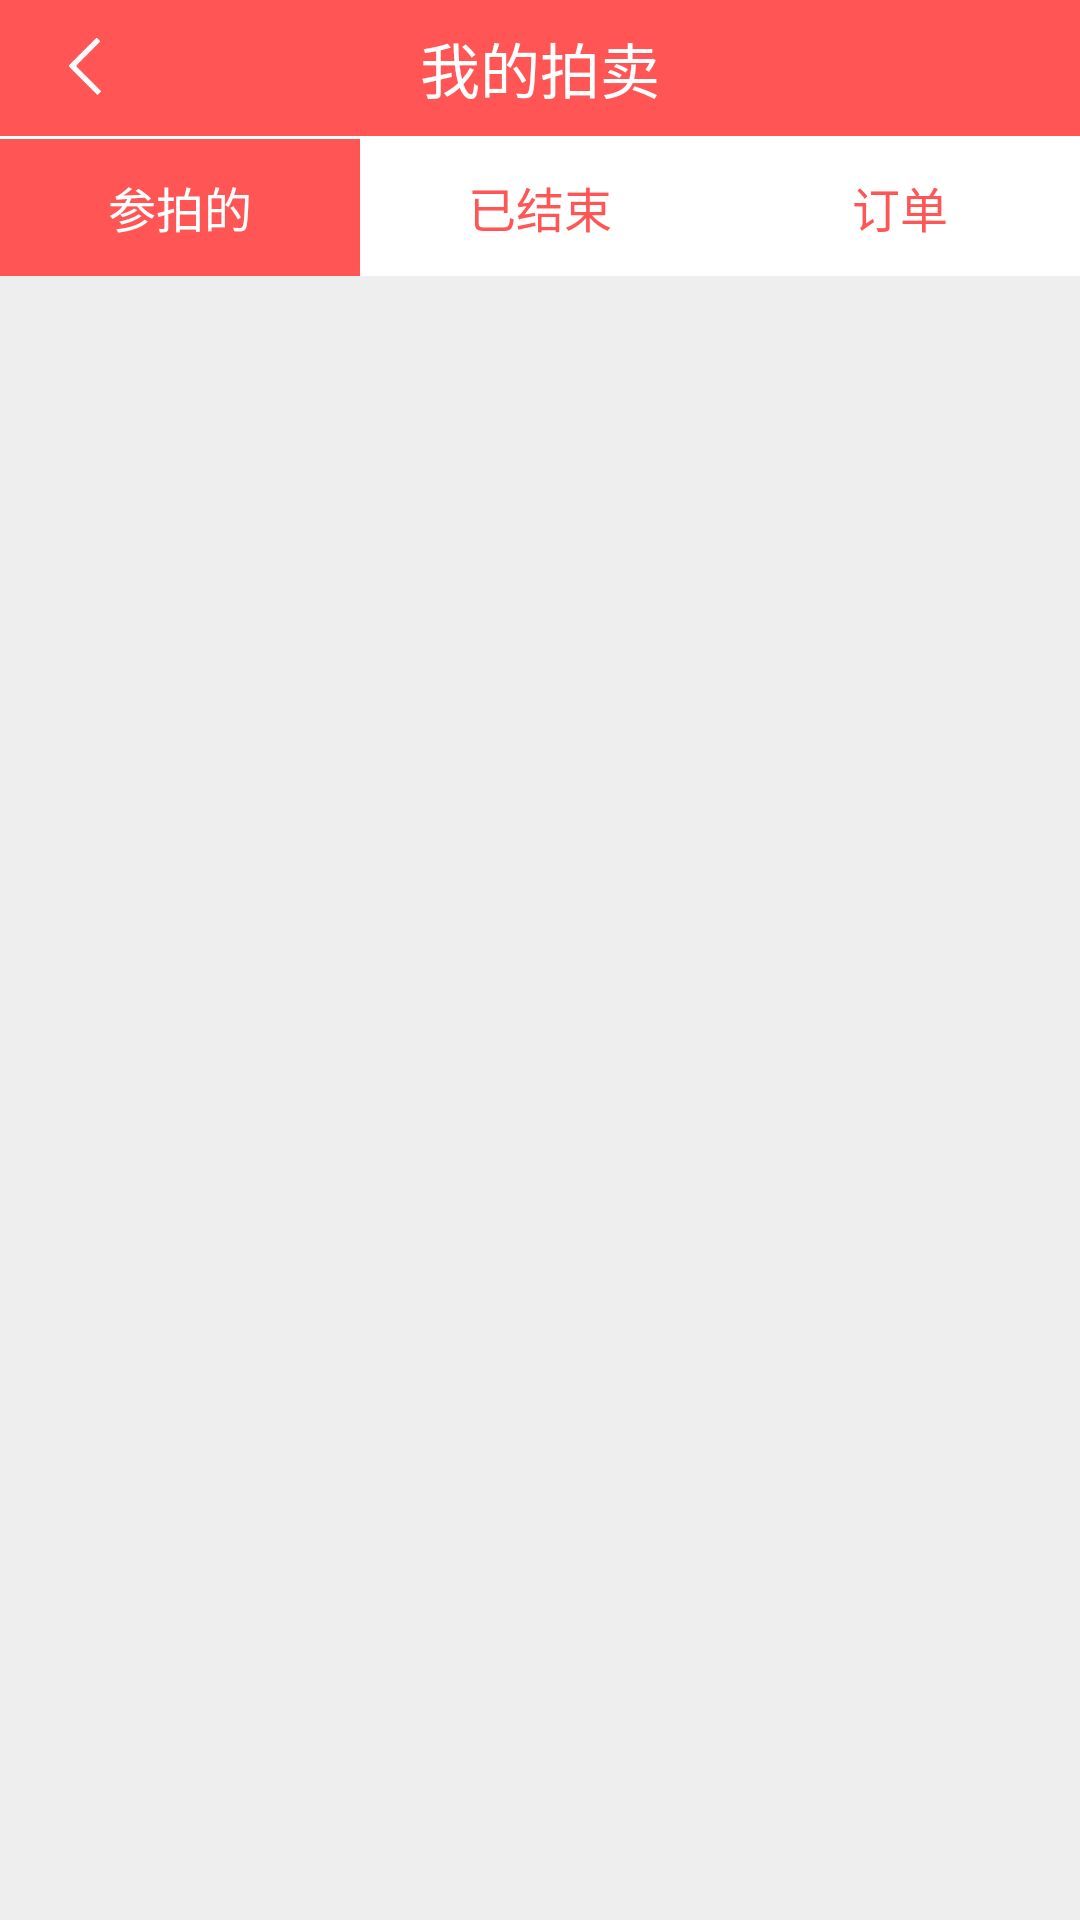

Named icons in this screenshot (1080w x 1920h) and their bounding boxes, (x1, y1, x2, y2):
jiantou left: (69, 38, 101, 95)
